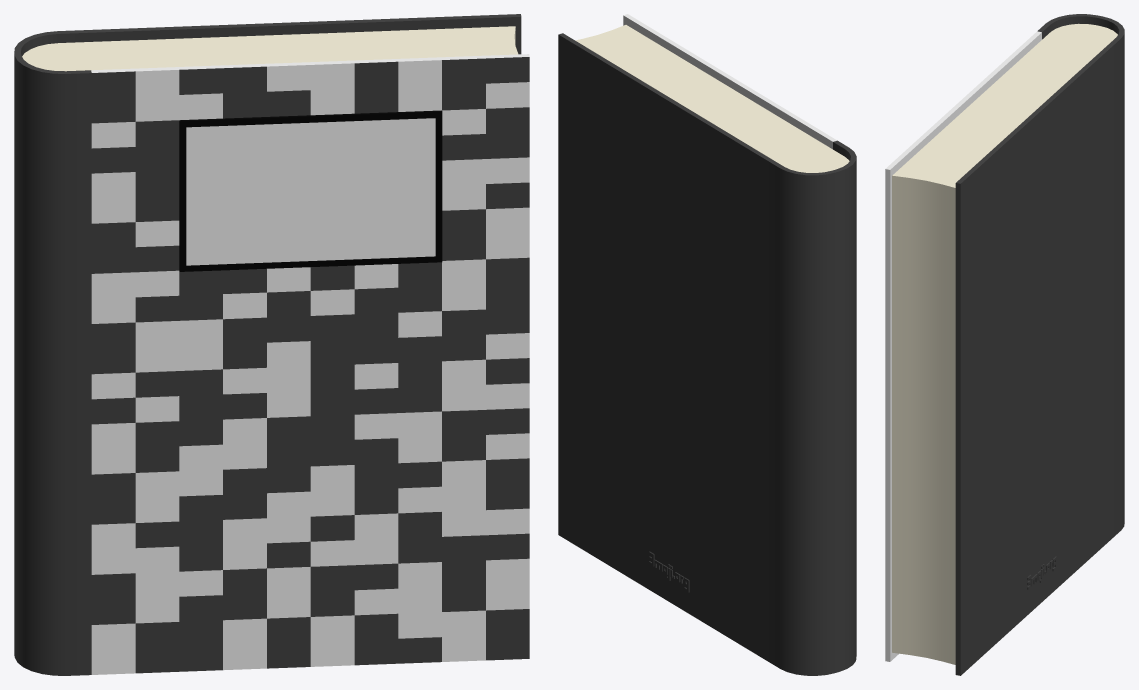
The model's file is notebook.fbx.
3 views of the same model, side by side, from view 1: azimuth 30°, elevation 25°; view 2: azimuth 150°, elevation 25°; view 3: azimuth 270°, elevation 25° (orthographic). The views are drawn at different scales.
Visible parts, largest first — view 1: Cube.953; view 2: Cube.953; view 3: Cube.953.
Part boxes in pixels (x1,y1,x2,y2): Cube.953: [14, 14, 529, 675]; Cube.953: [558, 14, 856, 675]; Cube.953: [885, 14, 1124, 675].
Bounding box in the file's own units: 155 × 210 × 92.63.
1 material, 1 textured.
